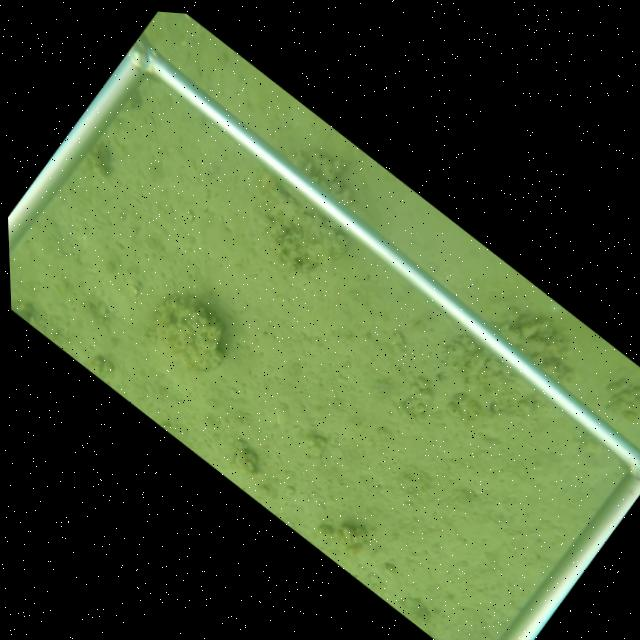Oyster-Indeterminate: (153, 290, 225, 373)
